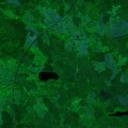alloviz: (37, 70, 60, 82), (108, 109, 127, 119)
